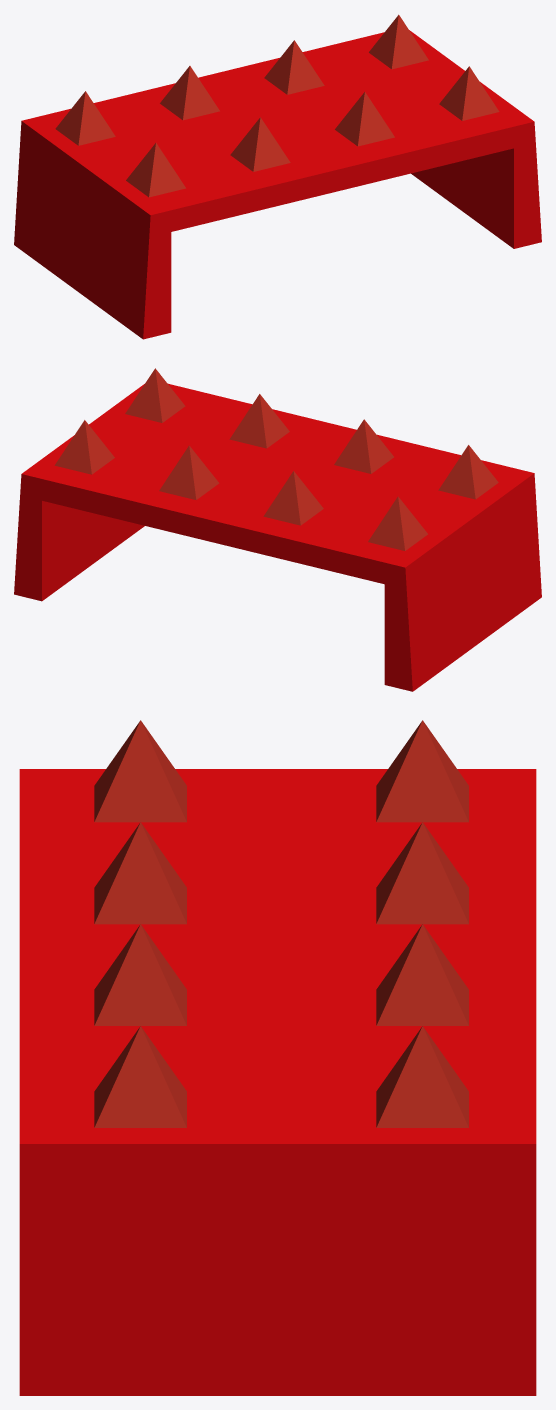
The model's file is pipe.fbx.
The picture shows the model from 3 angles, top to bottom: view 1: azimuth 30°, elevation 25°; view 2: azimuth 150°, elevation 25°; view 3: azimuth 270°, elevation 25°; orthographic projection. The views are drawn at different scales.
Visible parts, largest first — view 1: Cube.001, Cube.008, Cube.002, Cube.003, Cube.006, Cube.004, Cube.005, Cube.007, Cube.009; view 2: Cube.001, Cube.002, Cube.003, Cube.006, Cube.007, Cube.009, Cube.008, Cube.004, Cube.005; view 3: Cube.001, Cube.003, Cube.007, Cube.002, Cube.006, Cube.005, Cube.009, Cube.004, Cube.008.
Part boxes in pixels (bbox=[...]): Cube.001: bbox=[14, 30, 541, 339]; Cube.008: bbox=[264, 40, 324, 94]; Cube.002: bbox=[126, 143, 185, 197]; Cube.003: bbox=[230, 117, 290, 171]; Cube.006: bbox=[55, 91, 115, 145]; Cube.004: bbox=[335, 92, 394, 146]; Cube.005: bbox=[439, 66, 499, 120]; Cube.007: bbox=[160, 66, 219, 120]; Cube.009: bbox=[369, 14, 428, 69]; Cube.001: bbox=[14, 383, 541, 691]; Cube.002: bbox=[438, 445, 498, 499]; Cube.003: bbox=[334, 419, 393, 473]; Cube.006: bbox=[368, 496, 427, 550]; Cube.007: bbox=[263, 471, 323, 525]; Cube.009: bbox=[54, 420, 114, 474]; Cube.008: bbox=[159, 445, 219, 499]; Cube.004: bbox=[229, 394, 289, 448]; Cube.005: bbox=[125, 368, 185, 422]; Cube.001: bbox=[19, 769, 536, 1395]; Cube.003: bbox=[94, 822, 186, 924]; Cube.007: bbox=[376, 822, 468, 924]; Cube.002: bbox=[94, 720, 186, 822]; Cube.006: bbox=[376, 720, 468, 822]; Cube.005: bbox=[94, 1026, 186, 1127]; Cube.009: bbox=[376, 1026, 468, 1127]; Cube.004: bbox=[94, 924, 186, 1025]; Cube.008: bbox=[376, 924, 468, 1025].
Bounding box in the file's own units: 356 × 140 × 200.
